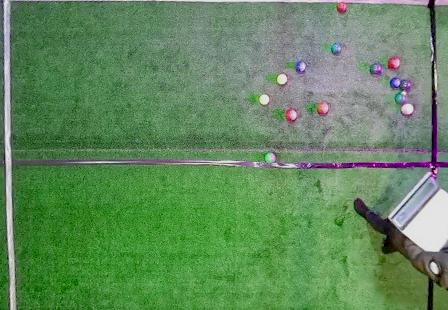blue: (389, 77, 400, 88), (296, 61, 306, 72)
green: (370, 63, 382, 76), (265, 152, 277, 163), (400, 79, 411, 90), (331, 43, 341, 54), (395, 93, 406, 103)
red: (387, 57, 401, 70), (317, 102, 329, 115), (401, 103, 414, 115), (286, 109, 297, 121), (337, 1, 348, 13)
vline: (0, 1, 21, 309), (429, 1, 447, 171), (426, 276, 448, 309)
white: (401, 91, 407, 95)
yellow: (259, 94, 269, 105), (277, 74, 287, 84)
